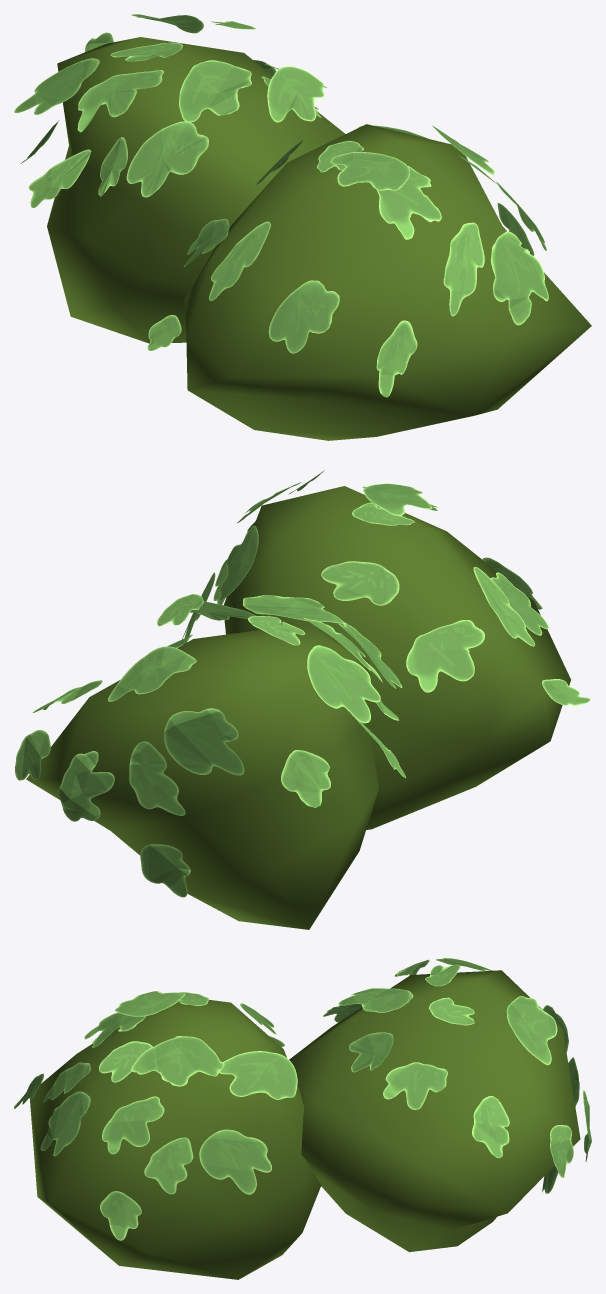
Rendered from Yels_Bush.fbx.
3 renders of one model, top to bottom at view 1: azimuth 30°, elevation 25°; view 2: azimuth 150°, elevation 25°; view 3: azimuth 270°, elevation 25°, orthographic. The views are drawn at different scales.
Parts seen in each view (by area): view 1: Icosphere, Icosphere.001, Plane.004, Plane.002, Plane.003, Plane.001, Plane.006, Plane.007; view 2: Icosphere.001, Icosphere, Plane.007, Plane.003, Plane.001, Plane.004, Plane.006, Plane.002; view 3: Icosphere.001, Icosphere, Plane.006, Plane.002, Plane.001, Plane.007, Plane.004, Plane.003.
Part boxes in pixels (bbox=[...]): Icosphere: bbox=[184, 124, 591, 440]; Icosphere.001: bbox=[47, 37, 345, 343]; Plane.004: bbox=[28, 42, 324, 207]; Plane.002: bbox=[317, 125, 548, 397]; Plane.003: bbox=[147, 140, 409, 353]; Plane.001: bbox=[14, 21, 326, 163]; Plane.006: bbox=[358, 125, 546, 255]; Plane.007: bbox=[85, 14, 276, 75]; Icosphere.001: bbox=[26, 623, 378, 929]; Icosphere: bbox=[224, 486, 570, 829]; Plane.007: bbox=[15, 646, 244, 897]; Plane.003: bbox=[321, 483, 590, 705]; Plane.001: bbox=[33, 594, 380, 807]; Plane.004: bbox=[190, 601, 405, 778]; Plane.006: bbox=[182, 470, 324, 644]; Plane.002: bbox=[237, 482, 542, 609]; Icosphere.001: bbox=[289, 970, 580, 1252]; Icosphere: bbox=[30, 999, 321, 1279]; Plane.006: bbox=[99, 1041, 297, 1240]; Plane.002: bbox=[14, 992, 224, 1156]; Plane.001: bbox=[338, 958, 509, 1158]; Plane.007: bbox=[506, 996, 591, 1193]; Plane.004: bbox=[323, 959, 460, 1072]; Plane.003: bbox=[115, 991, 284, 1046].
Size of the model in its own units: 310 by 246 by 472.
